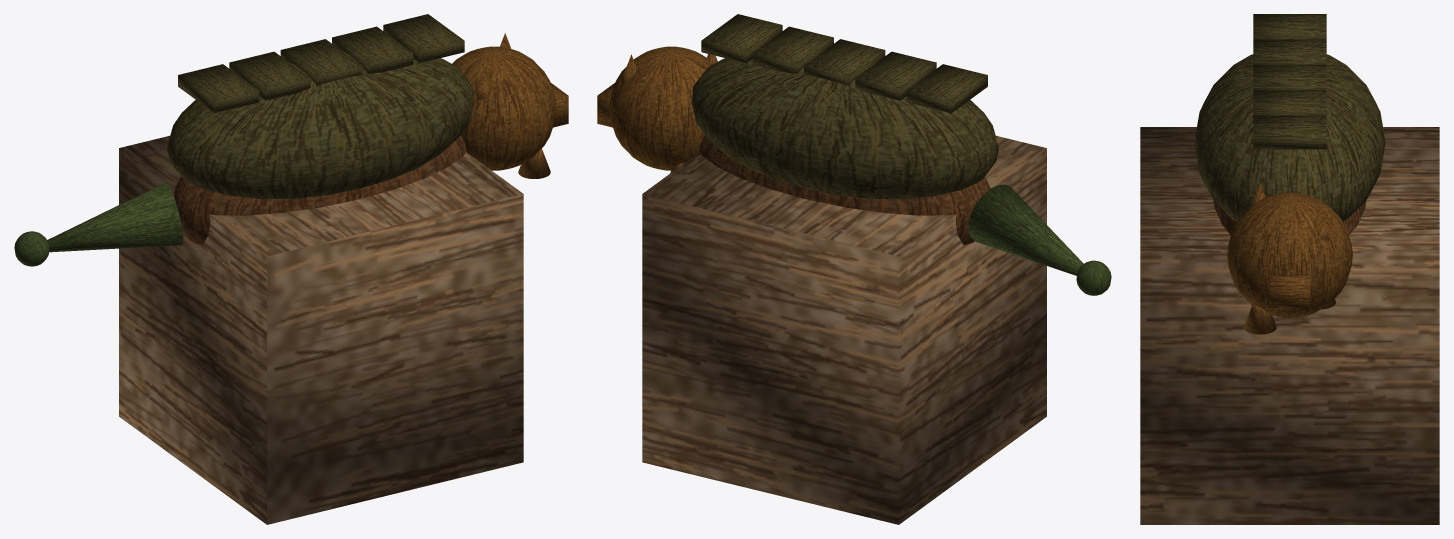
The model's file is tarasque.glb.
3 renders of one model, left to right at view 1: azimuth 30°, elevation 25°; view 2: azimuth 150°, elevation 25°; view 3: azimuth 270°, elevation 25°, orthographic.
Visible parts, largest first — view 1: Cube, ShellDome, LionHead, OxBody, SerpentTail, ShellPlate0, ShellPlate4, ShellPlate1, ShellPlate3, ShellPlate2, TailHead, ManeTuft7; view 2: Cube, ShellDome, LionHead, SerpentTail, OxBody, ShellPlate0, ShellPlate4, ShellPlate1, ShellPlate3, ShellPlate2, TailHead; view 3: Cube, ShellDome, LionHead, ShellPlate4, ShellPlate0, ShellPlate1, ShellPlate2, ShellPlate3, Snout, ManeTuft7, OxBody.
Part boxes in pixels (bbox=[...]): Cube: bbox=[119, 135, 523, 524]; ShellDome: bbox=[167, 51, 474, 199]; LionHead: bbox=[452, 46, 556, 170]; OxBody: bbox=[173, 135, 467, 244]; SerpentTail: bbox=[47, 182, 183, 252]; ShellPlate0: bbox=[178, 64, 259, 113]; ShellPlate4: bbox=[383, 14, 464, 63]; ShellPlate1: bbox=[229, 51, 310, 100]; ShellPlate3: bbox=[332, 26, 413, 73]; ShellPlate2: bbox=[280, 39, 361, 85]; TailHead: bbox=[14, 231, 49, 266]; ManeTuft7: bbox=[518, 148, 550, 178]; Cube: bbox=[642, 135, 1046, 524]; ShellDome: bbox=[691, 51, 998, 199]; LionHead: bbox=[609, 46, 711, 170]; SerpentTail: bbox=[968, 184, 1083, 275]; OxBody: bbox=[698, 135, 990, 244]; ShellPlate0: bbox=[906, 64, 987, 113]; ShellPlate4: bbox=[701, 14, 782, 62]; ShellPlate1: bbox=[855, 51, 936, 100]; ShellPlate3: bbox=[752, 26, 833, 73]; ShellPlate2: bbox=[804, 39, 885, 85]; TailHead: bbox=[1076, 260, 1111, 295]; Cube: bbox=[1140, 127, 1439, 524]; ShellDome: bbox=[1194, 54, 1385, 221]; LionHead: bbox=[1227, 192, 1352, 317]; ShellPlate4: bbox=[1253, 115, 1326, 149]; ShellPlate0: bbox=[1253, 14, 1326, 39]; ShellPlate1: bbox=[1253, 39, 1326, 64]; ShellPlate2: bbox=[1253, 64, 1326, 89]; ShellPlate3: bbox=[1253, 90, 1326, 115]; Snout: bbox=[1269, 275, 1310, 310]; ManeTuft7: bbox=[1244, 304, 1276, 334]; OxBody: bbox=[1213, 201, 1366, 234].
Size of the model in its own units: 3.5 by 2.45 by 1.72.
Materials: 6 (5 with a texture image).
